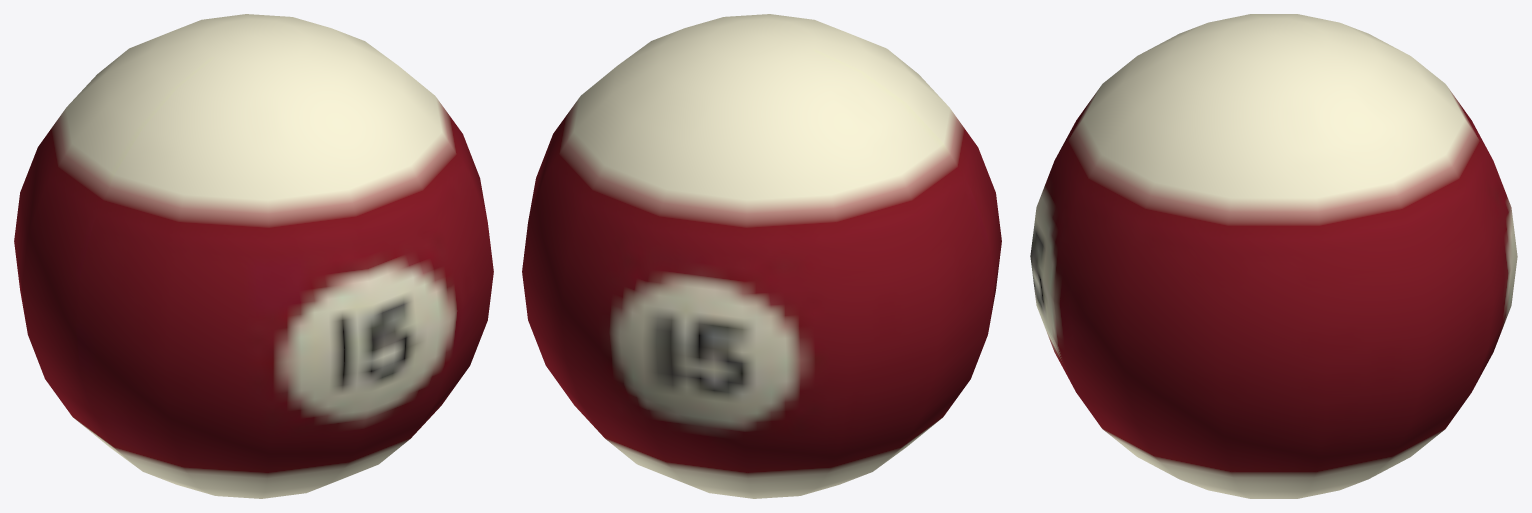
File: ball15.fbx
3 views of the same model, side by side, from view 1: azimuth 30°, elevation 25°; view 2: azimuth 150°, elevation 25°; view 3: azimuth 270°, elevation 25° (orthographic).
Visible parts, largest first — view 1: pSphere1; view 2: pSphere1; view 3: pSphere1.
Part boxes in pixels (x1,y1,x2,y2): pSphere1: [14, 14, 493, 498]; pSphere1: [522, 14, 1001, 498]; pSphere1: [1030, 14, 1517, 498].
Bounding box in the file's own units: 0.3779 × 0.3875 × 0.3875.
